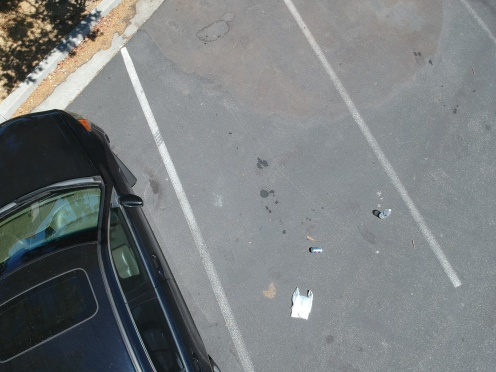bottle: (374, 206, 395, 222)
can: (307, 243, 326, 256)
plastic bag: (287, 282, 317, 323)
